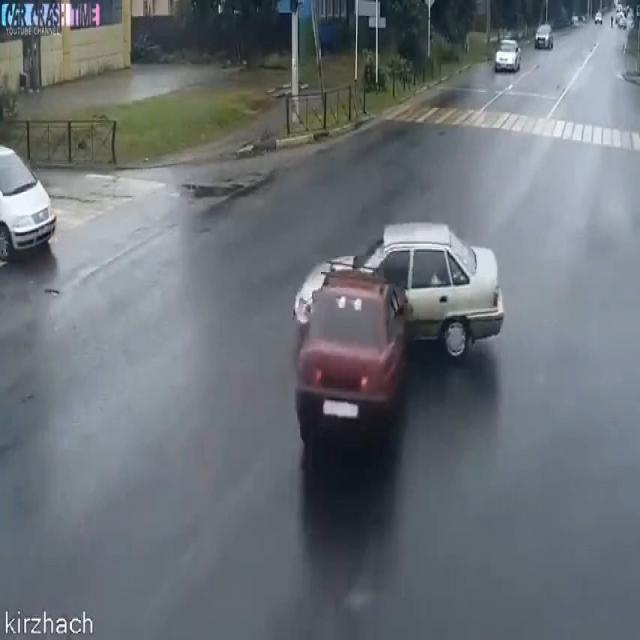Accident: (281, 170, 519, 503)
